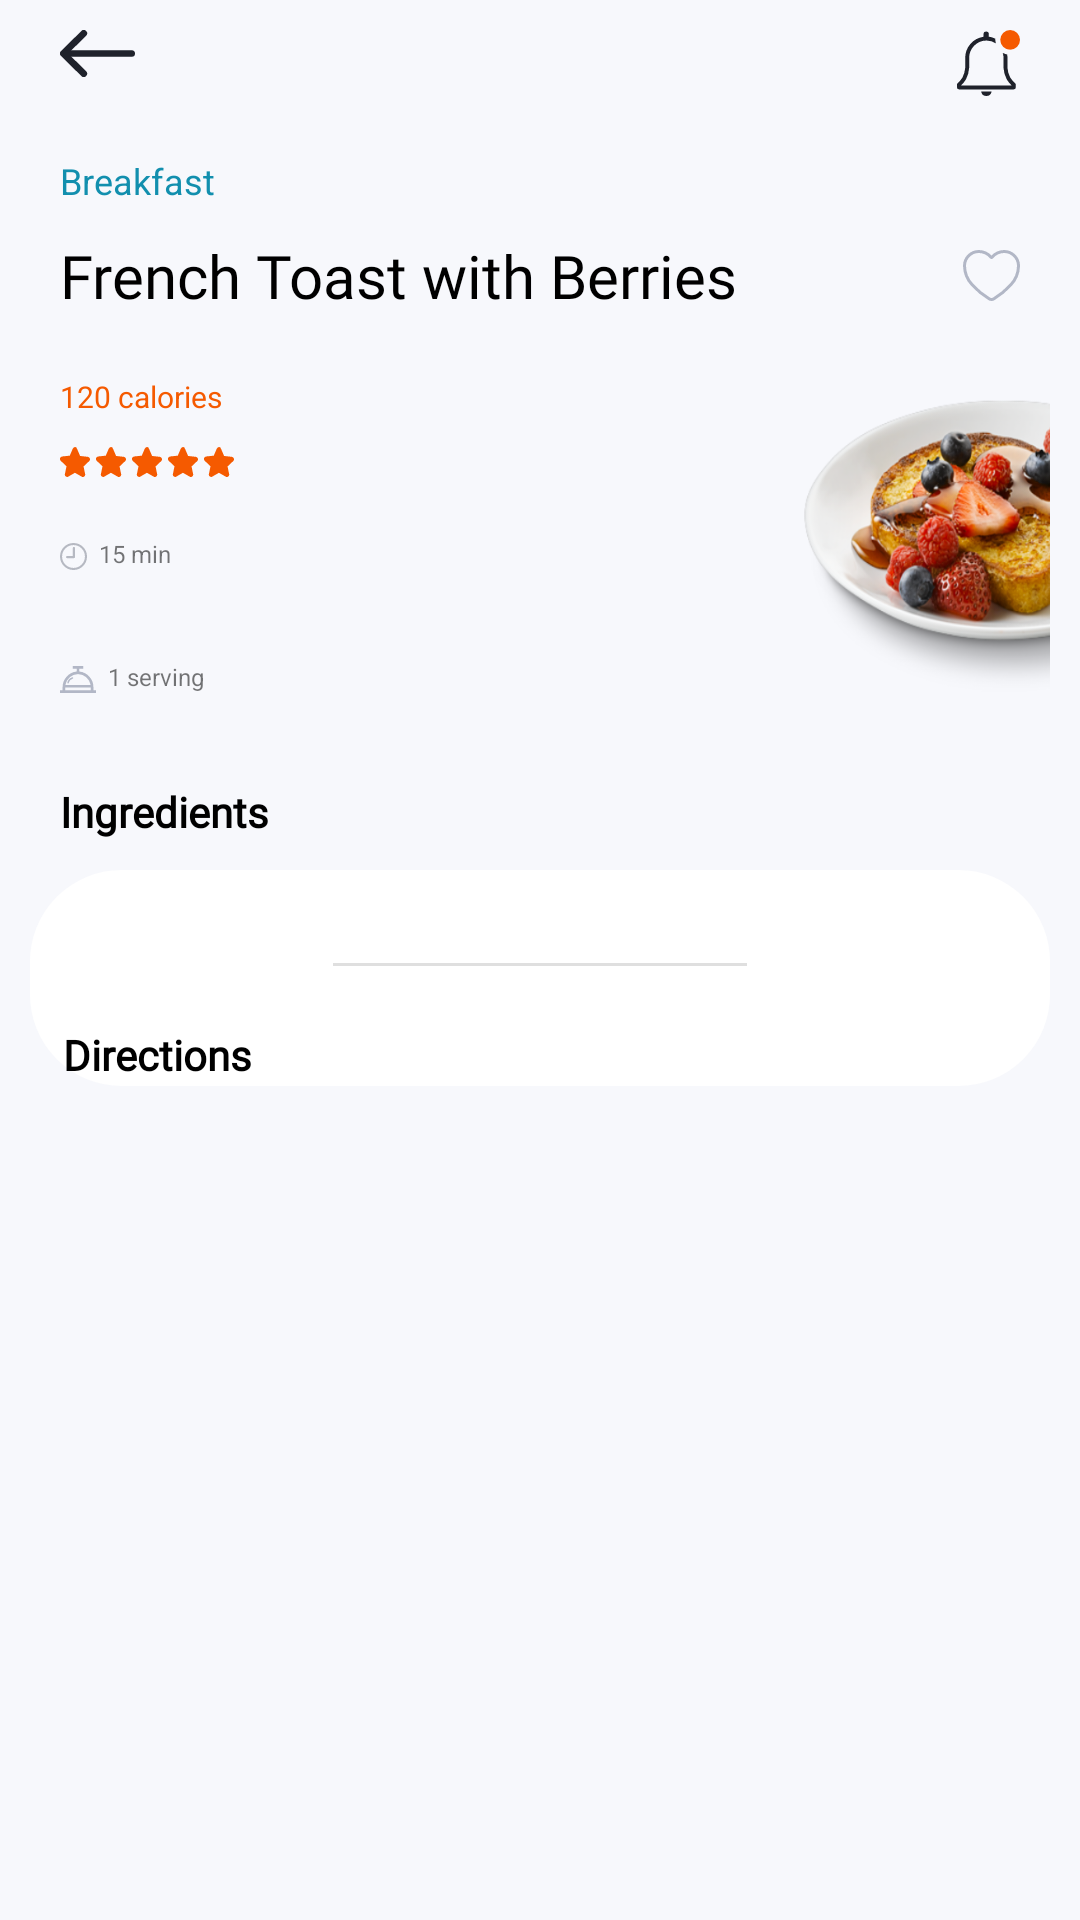

Icons on this 1080 × 1920 Android screen, each with its box as bbox(x1, y1, x2, y2):
back: bbox(60, 30, 135, 77)
like: bbox(963, 250, 1020, 301)
notifications: bbox(957, 30, 1020, 96)
rating: bbox(60, 447, 234, 477)
time: bbox(60, 543, 87, 570)
